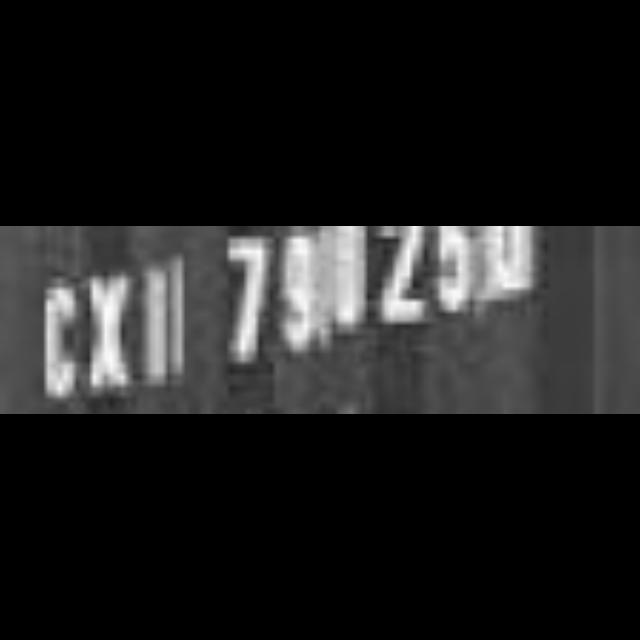2: (372, 226, 434, 334)
5: (436, 226, 474, 328)
7: (210, 236, 276, 366)
9: (279, 226, 319, 358)
c: (36, 274, 84, 404)
x: (81, 272, 132, 394)
